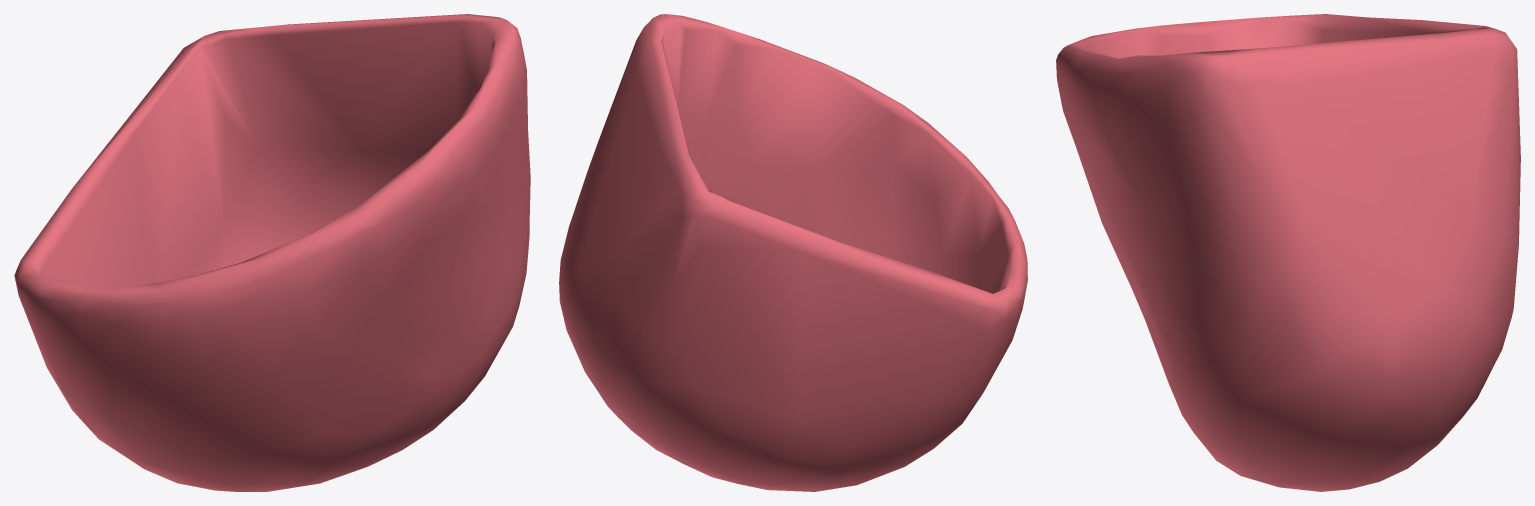
3 views of the same model, side by side, from view 1: azimuth 30°, elevation 25°; view 2: azimuth 150°, elevation 25°; view 3: azimuth 270°, elevation 25° (orthographic). The views are drawn at different scales.
Visible parts, largest first — view 1: ZA_3b3d36403af3c562; view 2: ZA_3b3d36403af3c562; view 3: ZA_3b3d36403af3c562.
Part boxes in pixels (bbox=[...]): ZA_3b3d36403af3c562: bbox=[14, 14, 530, 491]; ZA_3b3d36403af3c562: bbox=[559, 14, 1027, 491]; ZA_3b3d36403af3c562: bbox=[1056, 14, 1520, 491].
Bounding box in the file's own units: 0.0193 × 0.0167 × 0.014.
